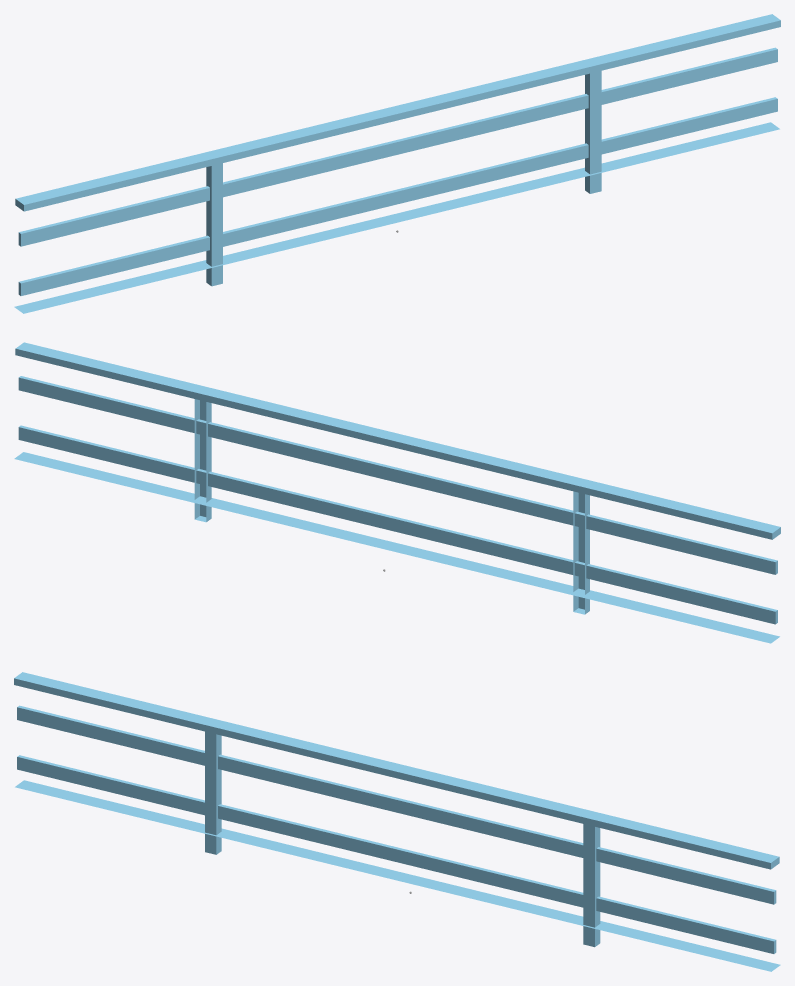
The model's file is silly.fbx.
3 renders of one model, top to bottom at view 1: azimuth 30°, elevation 25°; view 2: azimuth 150°, elevation 25°; view 3: azimuth 330°, elevation 25°, orthographic.
Visible parts, largest first — view 1: SM_floor; view 2: SM_floor; view 3: SM_floor.
Part boxes in pixels (<box>): SM_floor: <box>14,14,780,313</box>; SM_floor: <box>14,342,780,643</box>; SM_floor: <box>14,672,780,971</box>.
Bounding box in the file's own units: 800 × 131 × 22.28.
